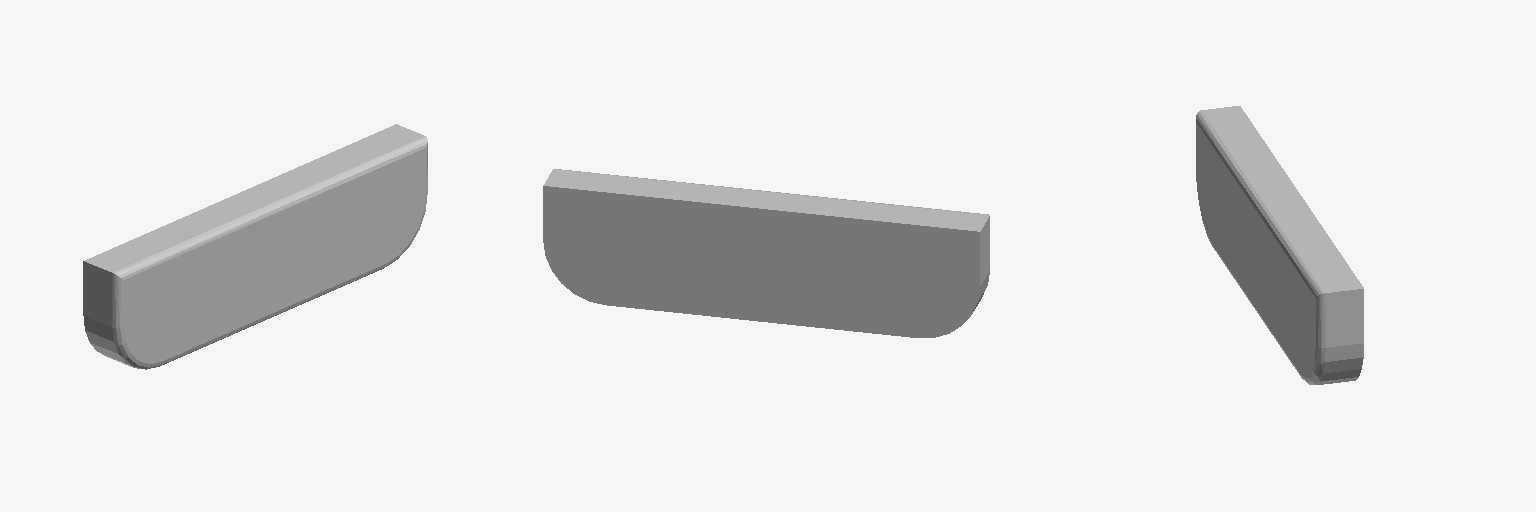
File: RightShoulder.obj
3 views of the same model, side by side, from view 1: azimuth 30°, elevation 25°; view 2: azimuth 150°, elevation 25°; view 3: azimuth 270°, elevation 25° (orthographic).
Parts seen in each view (by area): view 1: RightShoulder; view 2: RightShoulder; view 3: RightShoulder.
Part boxes in pixels (left/top/right/bottom): RightShoulder: left=83, top=124, right=427, bottom=369; RightShoulder: left=543, top=169, right=989, bottom=337; RightShoulder: left=1196, top=106, right=1363, bottom=384.
Bounding box in the file's own units: 27.62 × 7.75 × 10.48.